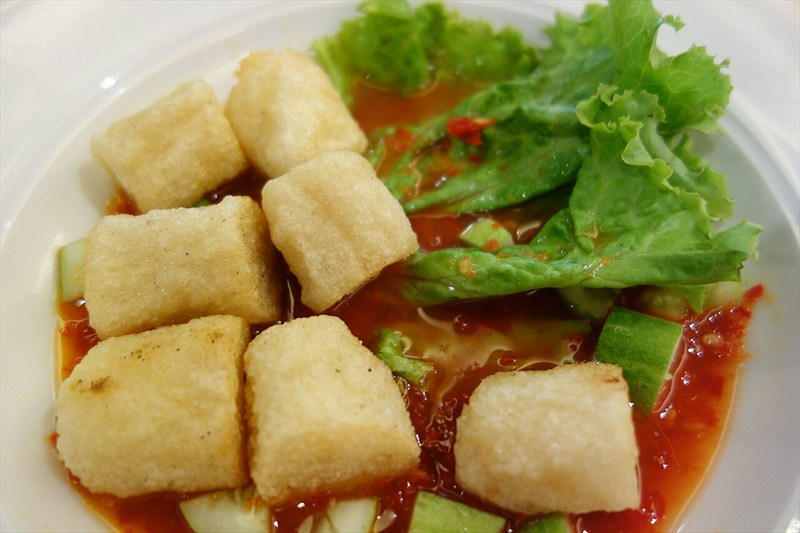Pempek: (107, 61, 723, 521)
